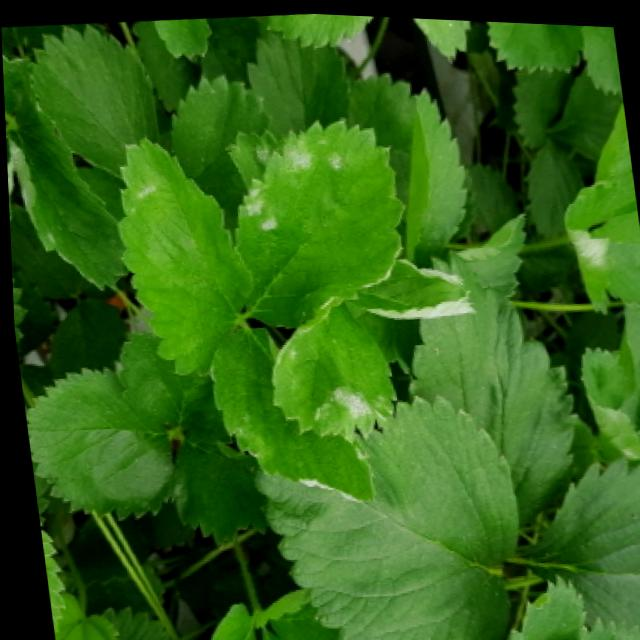Powdery Mildew Leaf: (232, 115, 403, 326), (113, 133, 251, 376), (207, 320, 372, 501), (266, 299, 398, 441), (566, 199, 640, 307), (348, 256, 476, 316), (151, 16, 212, 59), (256, 625, 278, 640)
